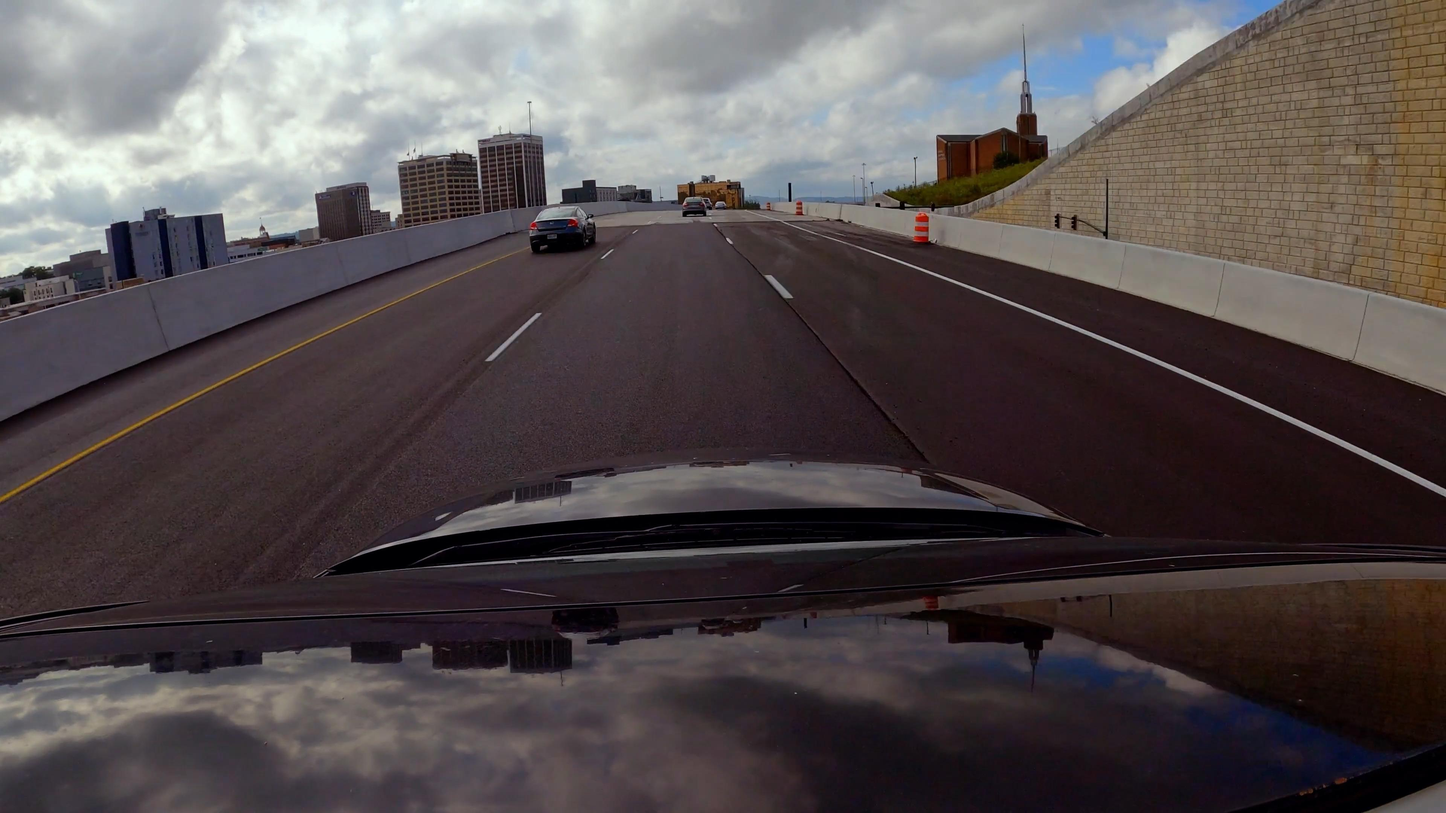dry: (0, 212, 1446, 619)
